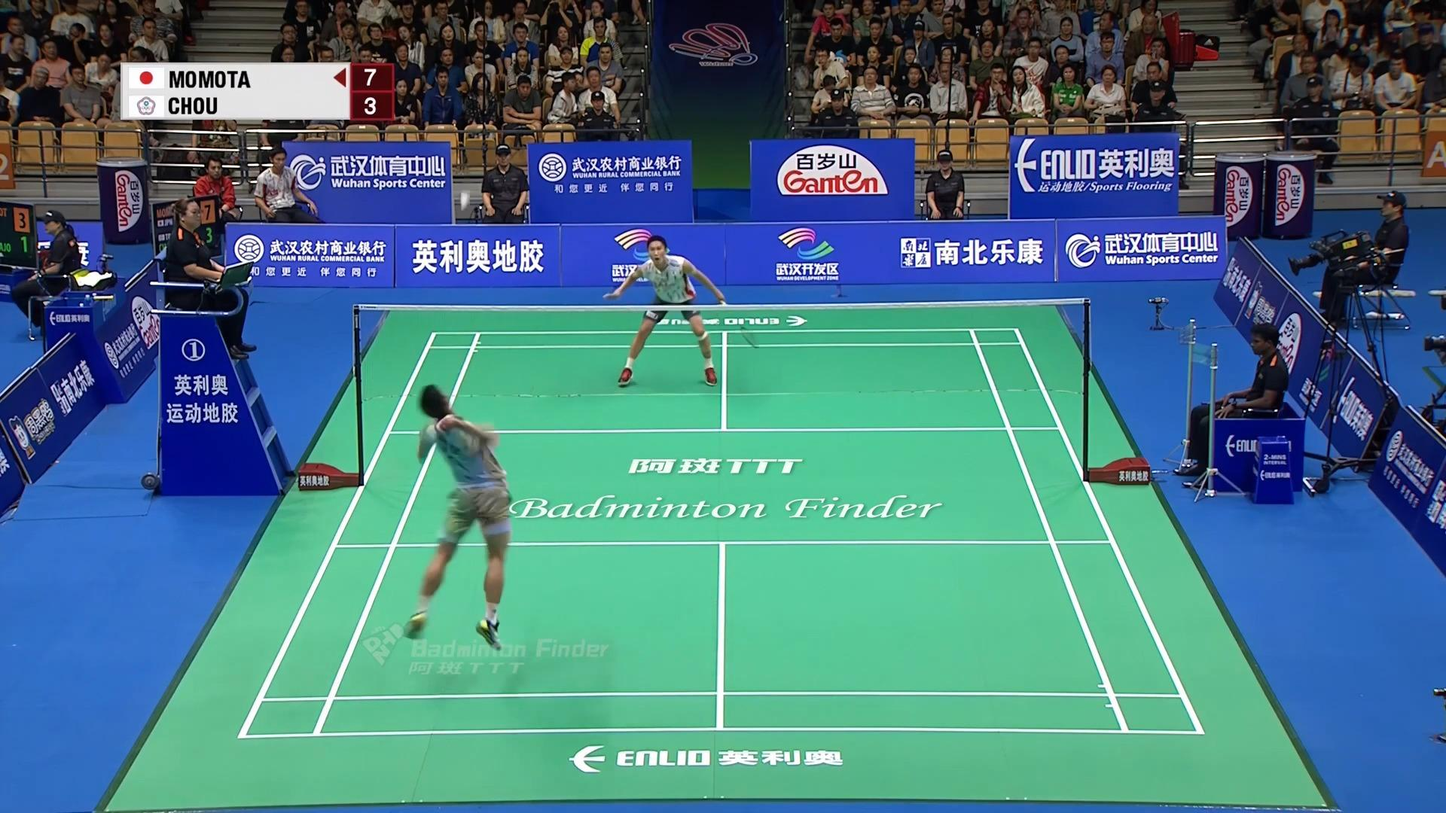shuttlecock: (459, 190, 470, 212)
